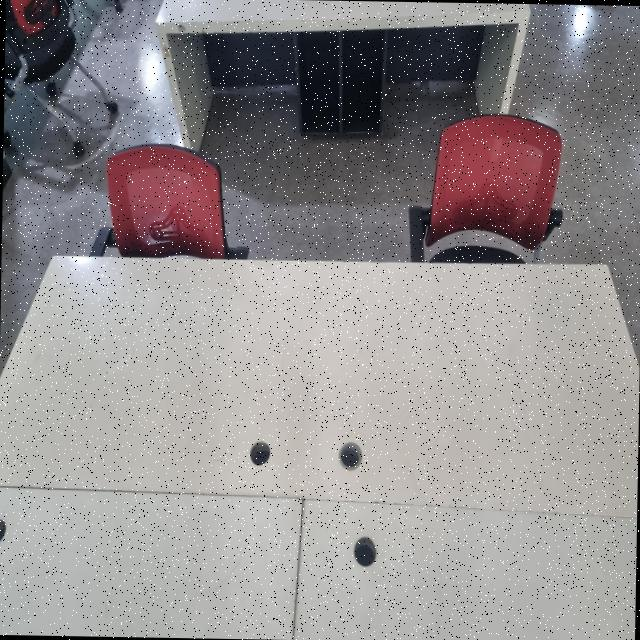Chair: (373, 100, 589, 270), (58, 123, 269, 258)
Table: (0, 249, 640, 640)
